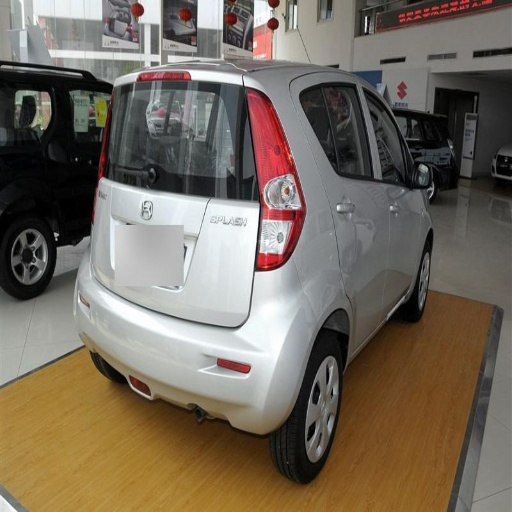back_right_door: (308, 82, 385, 338)
tailgate: (99, 212, 255, 325)
trunk: (95, 89, 257, 288)
